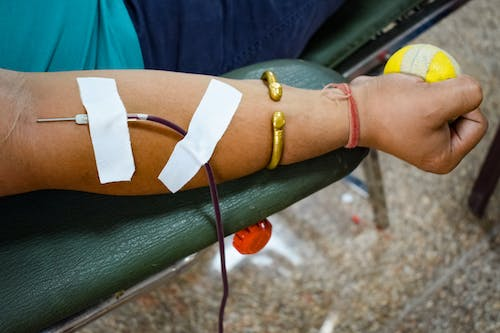blood: (127, 111, 230, 333)
